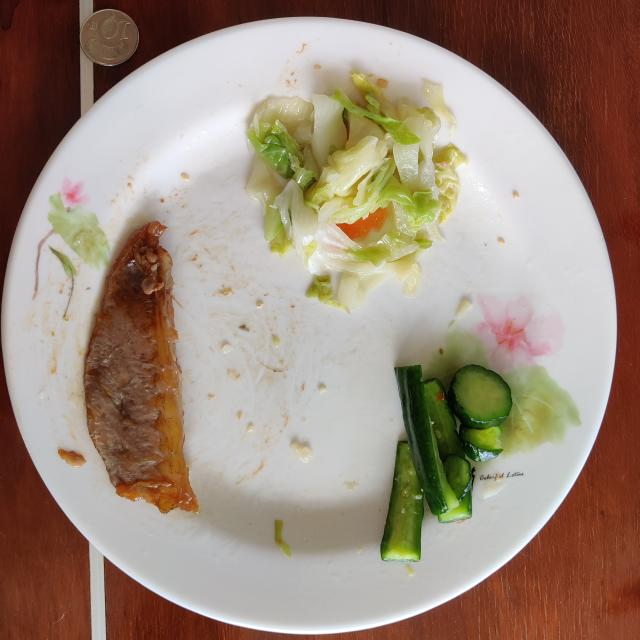Kabayaki sea bream fillet: (84, 221, 199, 512)
cabbage: (246, 71, 468, 310)
coin: (80, 9, 139, 66)
cucumber: (381, 365, 512, 561)
